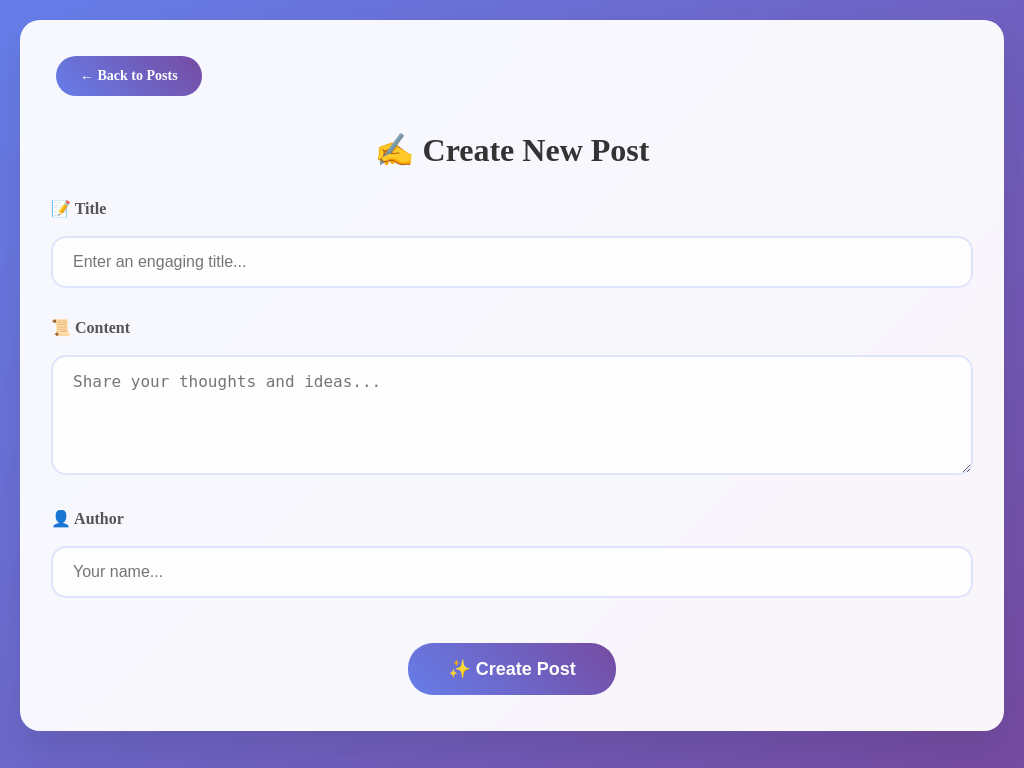
Test case: Blog App Combined Tests › Axios_handles API validation error
Step 1. Type "T" into the field with test id "title-input" → [512, 262], box x1=51 y1=236 x2=973 y2=288
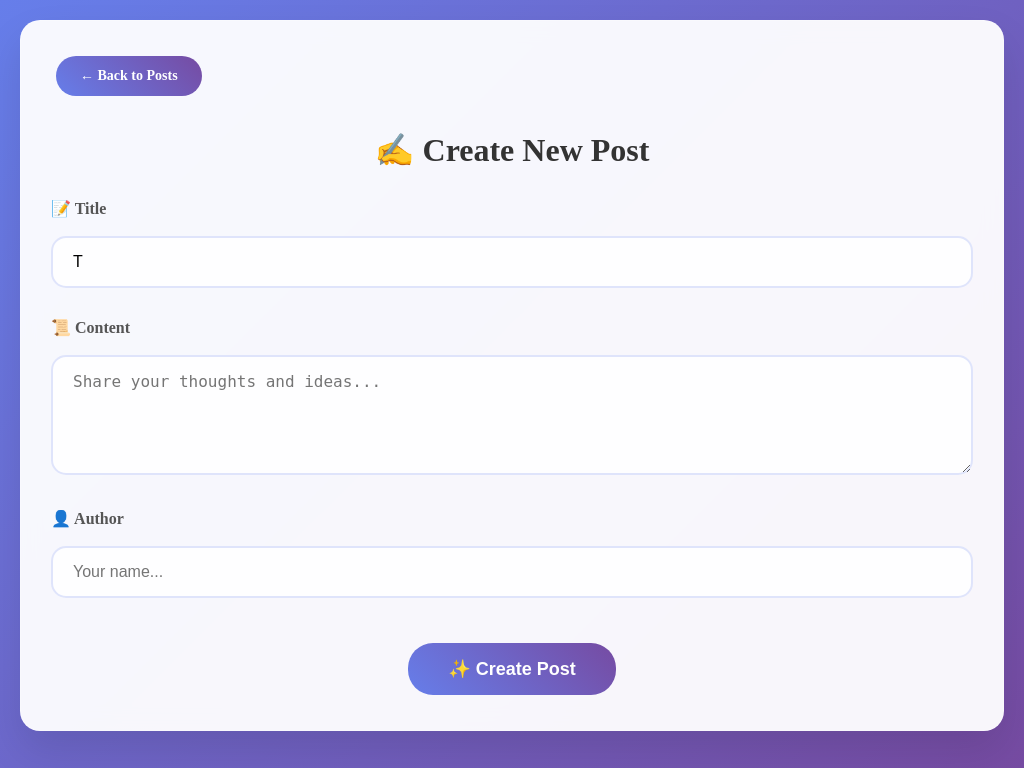
Step 2. Type "C" into the text box with test id "content-input" → [512, 415], box x1=51 y1=355 x2=973 y2=475
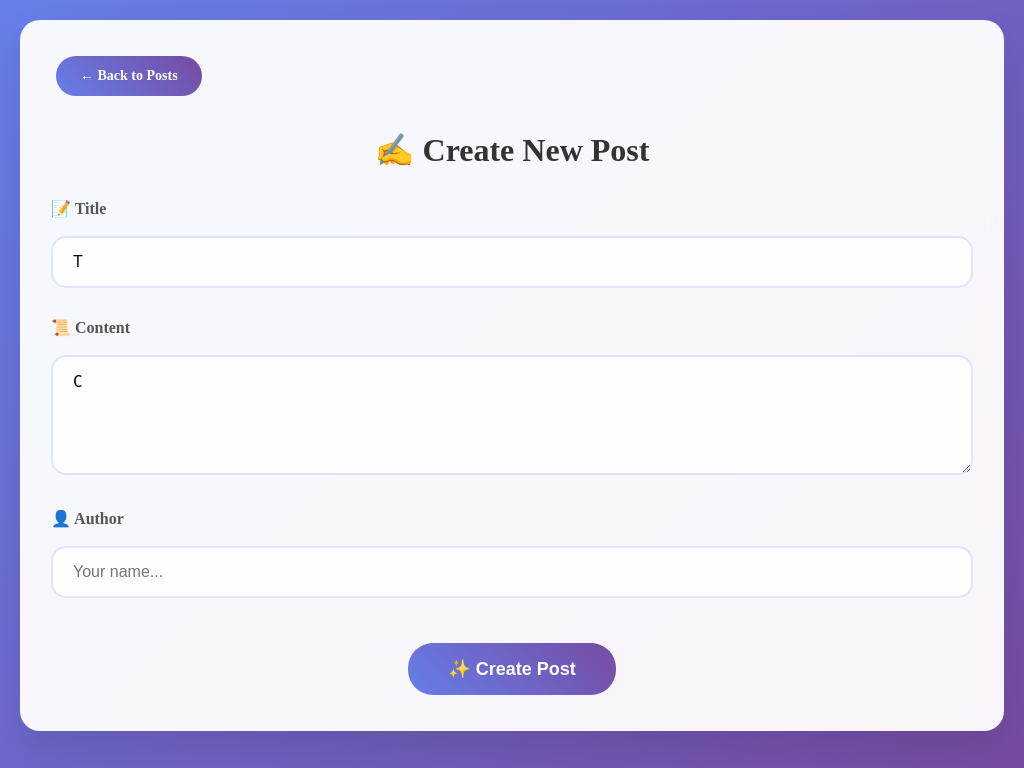
Step 3. Type "A" into the field with test id "author-input" → [512, 572], box x1=51 y1=546 x2=973 y2=598
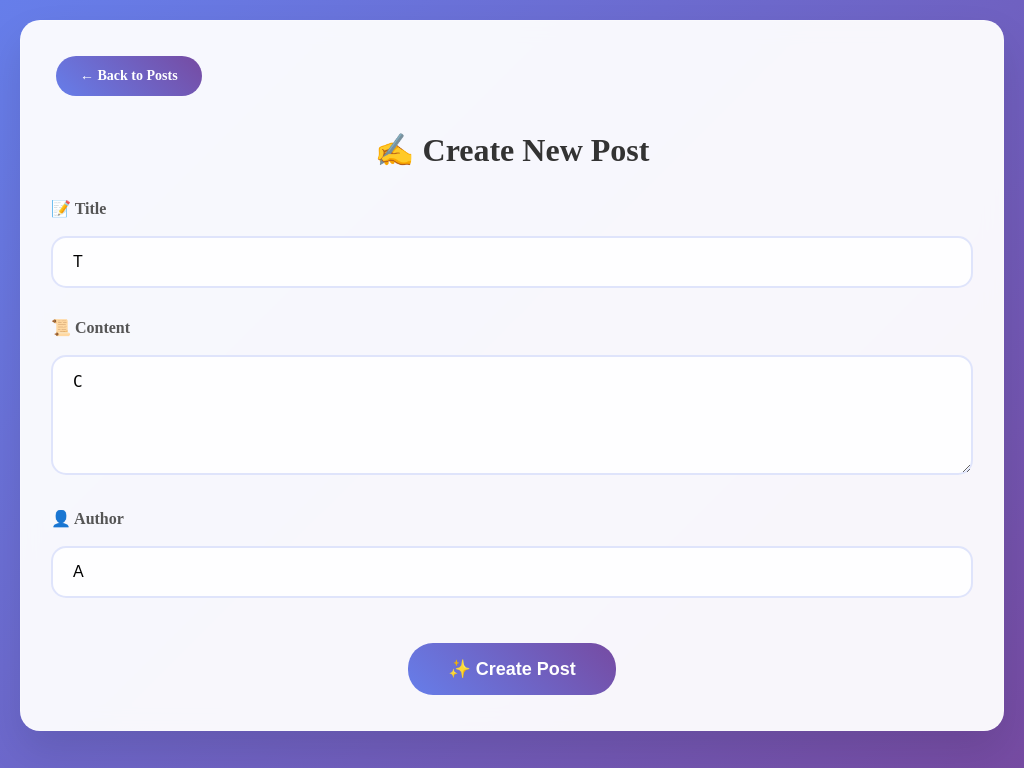
Step 4. Click the button "✨ Create Post" → [512, 669], box x1=408 y1=643 x2=616 y2=695
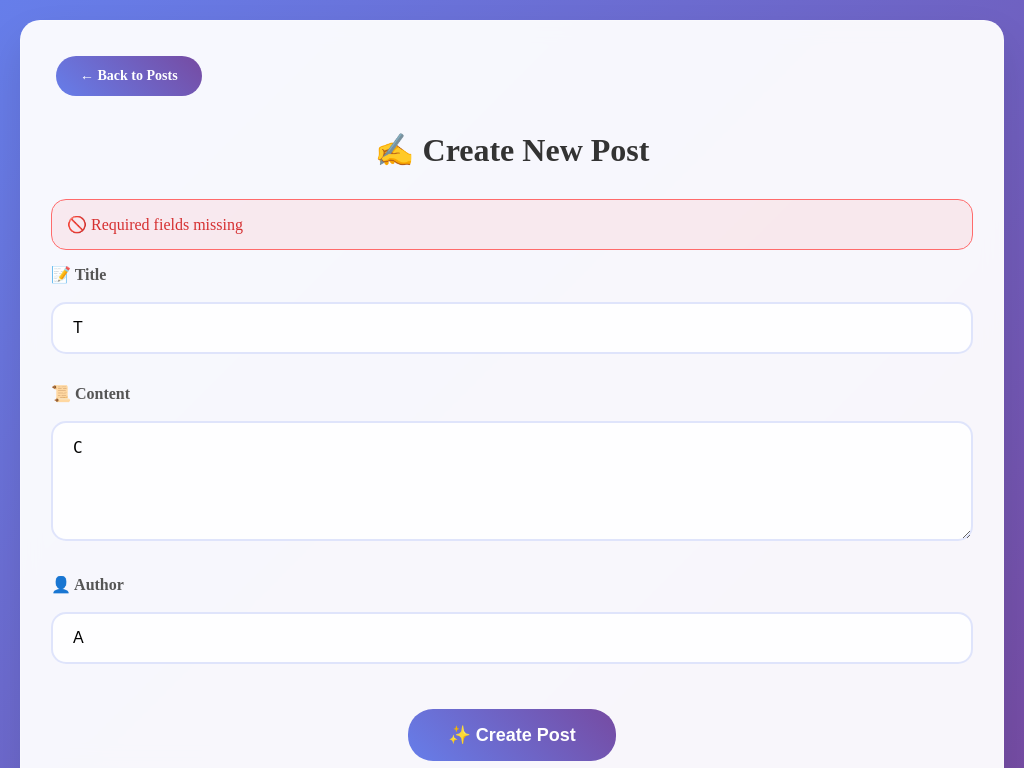
expect the text "🚫 Required fields missing" is shown: met, box x1=51 y1=199 x2=973 y2=250
